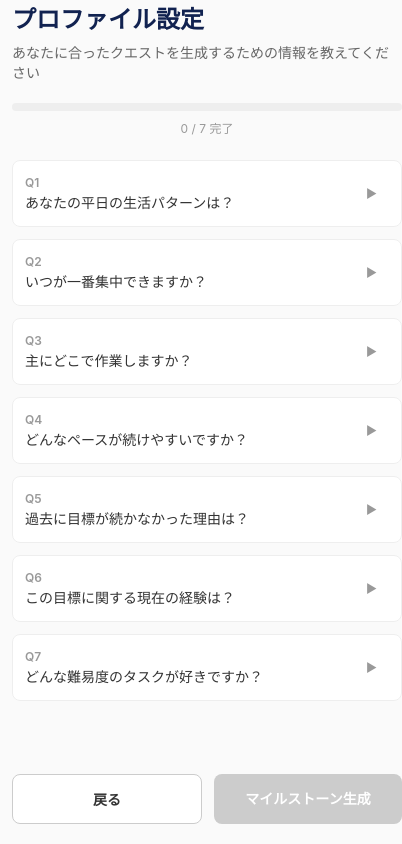
Test: ProfileStep 統合テスト › 質問の展開と折りたたみ › 展開中の質問を再度タップすると折りたたまれること
Click the element labelled "あなたの平日の生活パターンは？". click: (201, 193)
box: [25,175,377,211]
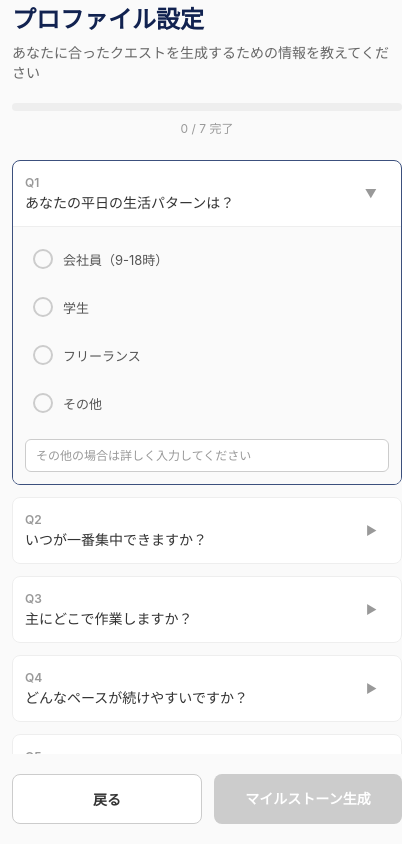
Check: the element labelled "会社員（9-18時）" is shown, box [33,249,168,269]
Click the element labelled "あなたの平日の生活パターンは？". click: (201, 193)
box: [25,175,377,211]
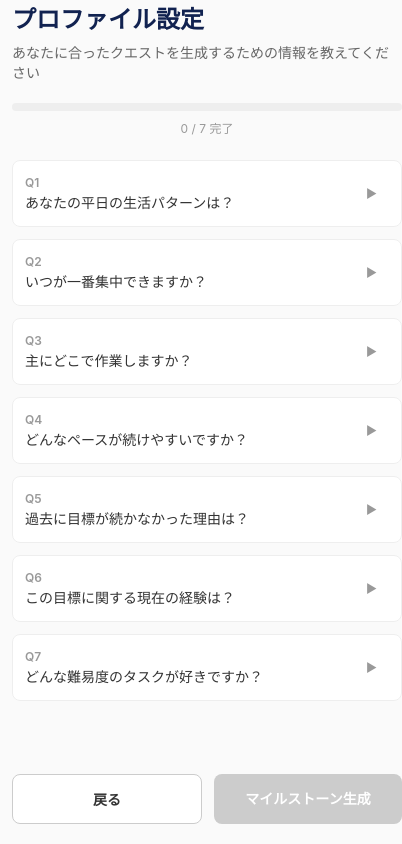
Check: the text labelled "会社員（9-18時）" is gone
